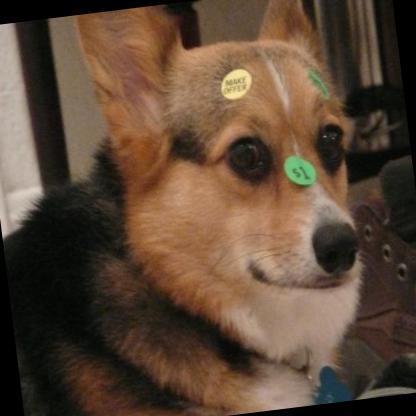Pembroke: (0, 0, 389, 416)
